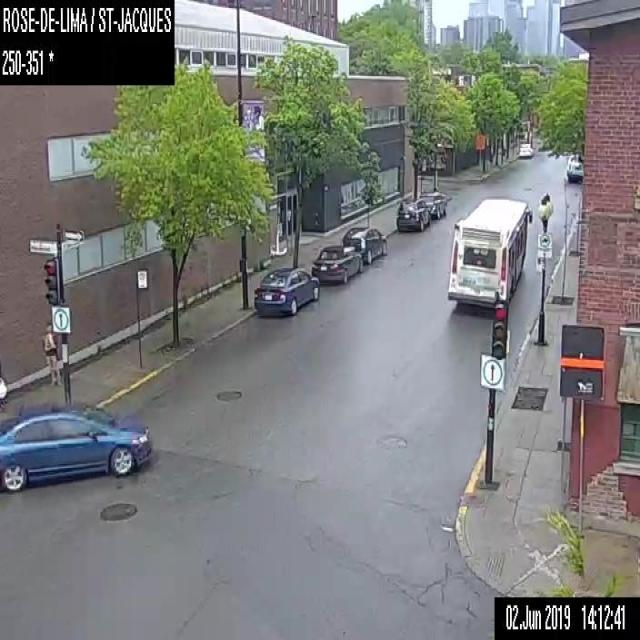bus: (446, 196, 533, 308)
construction: (476, 135, 485, 168)
pedestrian: (40, 318, 59, 382)
vehicle: (0, 401, 153, 492), (253, 266, 321, 317), (311, 243, 364, 279), (340, 226, 388, 261), (396, 198, 431, 232), (417, 190, 447, 217), (565, 156, 582, 181), (517, 142, 535, 158)
